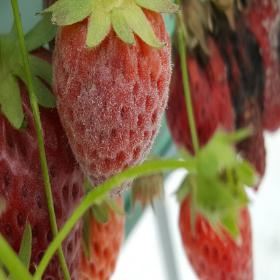Powdery Mildew Fruit: (50, 0, 172, 200), (0, 43, 85, 279)
